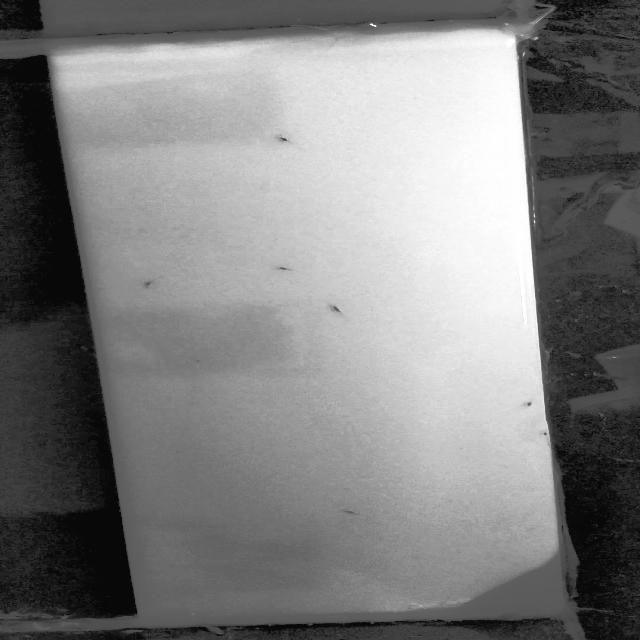shrimp: (339, 506, 366, 519), (517, 396, 540, 411), (328, 300, 348, 316), (274, 262, 300, 274), (275, 133, 298, 145), (140, 277, 159, 290), (535, 427, 558, 437)
